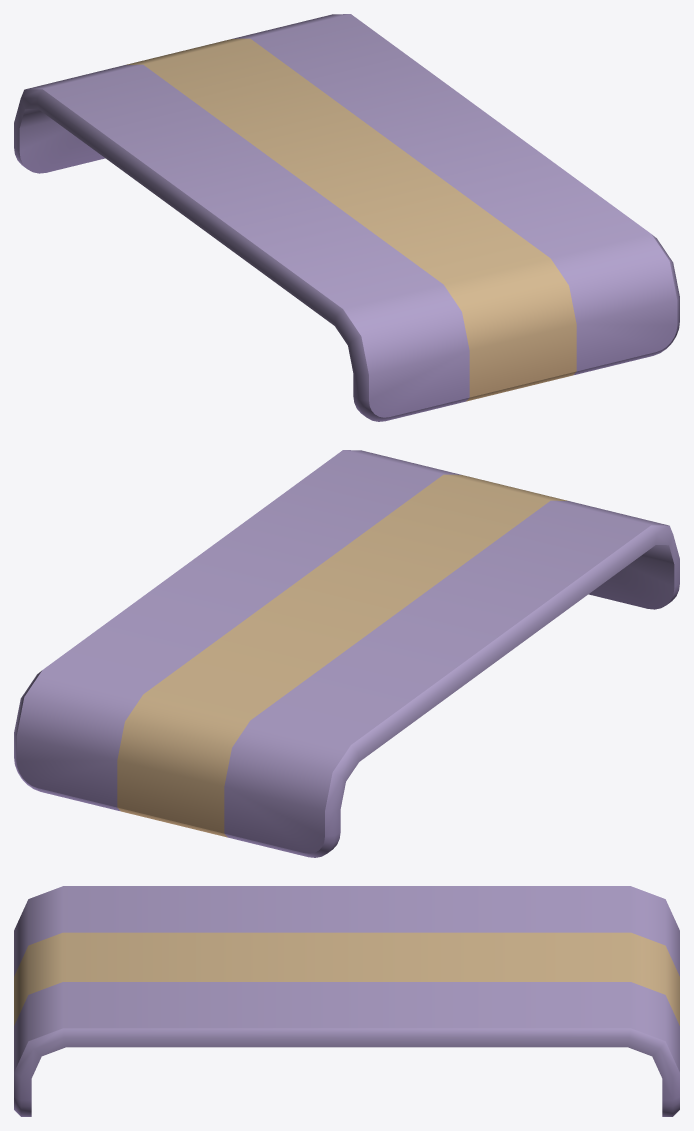
Rendered from cover-tricolor-double.glb.
The picture shows the model from 3 angles, top to bottom: view 1: azimuth 30°, elevation 25°; view 2: azimuth 150°, elevation 25°; view 3: azimuth 270°, elevation 25°; orthographic projection. The views are drawn at different scales.
Parts seen in each view (by area): view 1: cover-tricolor-double; view 2: cover-tricolor-double; view 3: cover-tricolor-double.
Part boxes in pixels (x1=…): cover-tricolor-double: x1=14, y1=14, x2=679, y2=421; cover-tricolor-double: x1=14, y1=450, x2=679, y2=857; cover-tricolor-double: x1=14, y1=886, x2=679, y2=1116.
Size of the model in its own units: 1 by 0.3 by 1.9.
